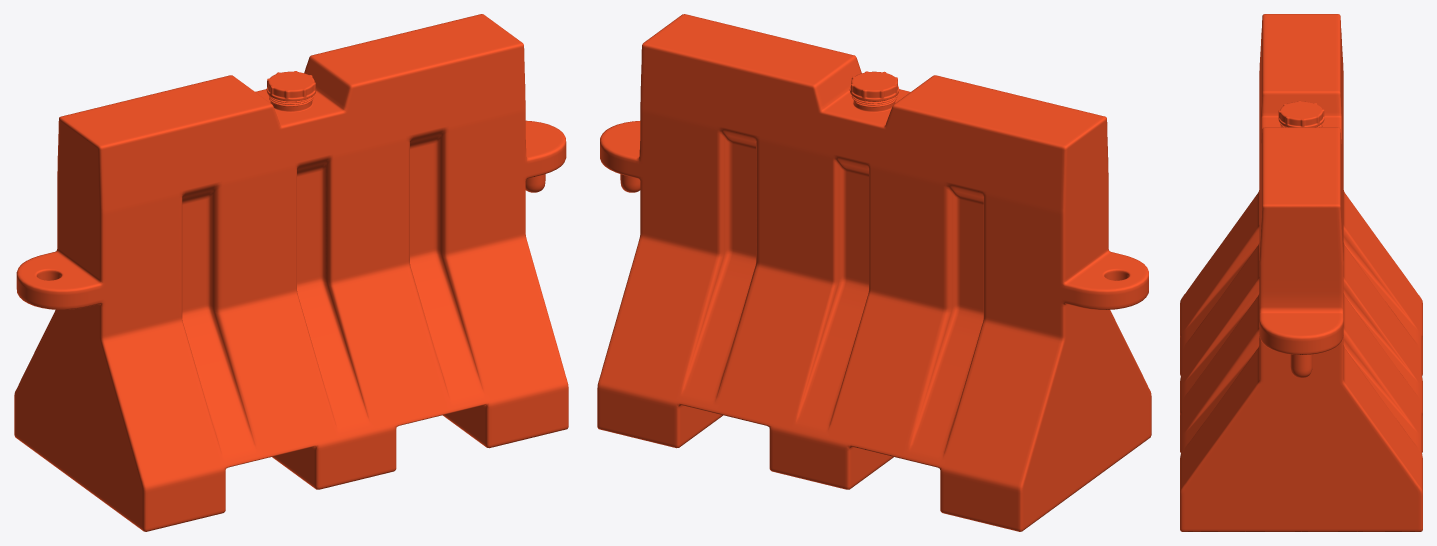
Rendered from Barrier-draco.gltf.
3 views of the same model, side by side, from view 1: azimuth 30°, elevation 25°; view 2: azimuth 150°, elevation 25°; view 3: azimuth 270°, elevation 25° (orthographic). The views are drawn at different scales.
Visible parts, largest first — view 1: Portable_Traffic_Barrier01, Portable_Traffic_Barrier; view 2: Portable_Traffic_Barrier01, Portable_Traffic_Barrier; view 3: Portable_Traffic_Barrier01, Portable_Traffic_Barrier.
Part boxes in pixels (x1,y1,x2,y2): Portable_Traffic_Barrier01: (14, 14, 568, 531); Portable_Traffic_Barrier: (266, 71, 316, 101); Portable_Traffic_Barrier01: (597, 14, 1151, 531); Portable_Traffic_Barrier: (849, 71, 899, 101); Portable_Traffic_Barrier01: (1180, 14, 1422, 531); Portable_Traffic_Barrier: (1278, 101, 1324, 127).
Size of the model in its own units: 1.59 by 0.9998 by 0.6722.
